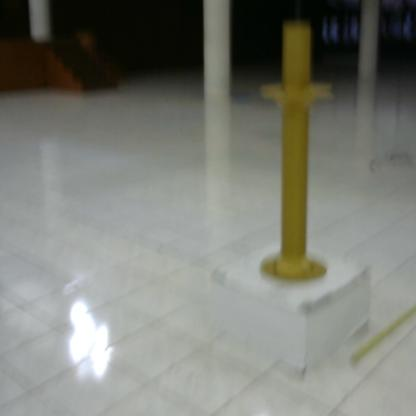pole: (251, 16, 342, 287)
